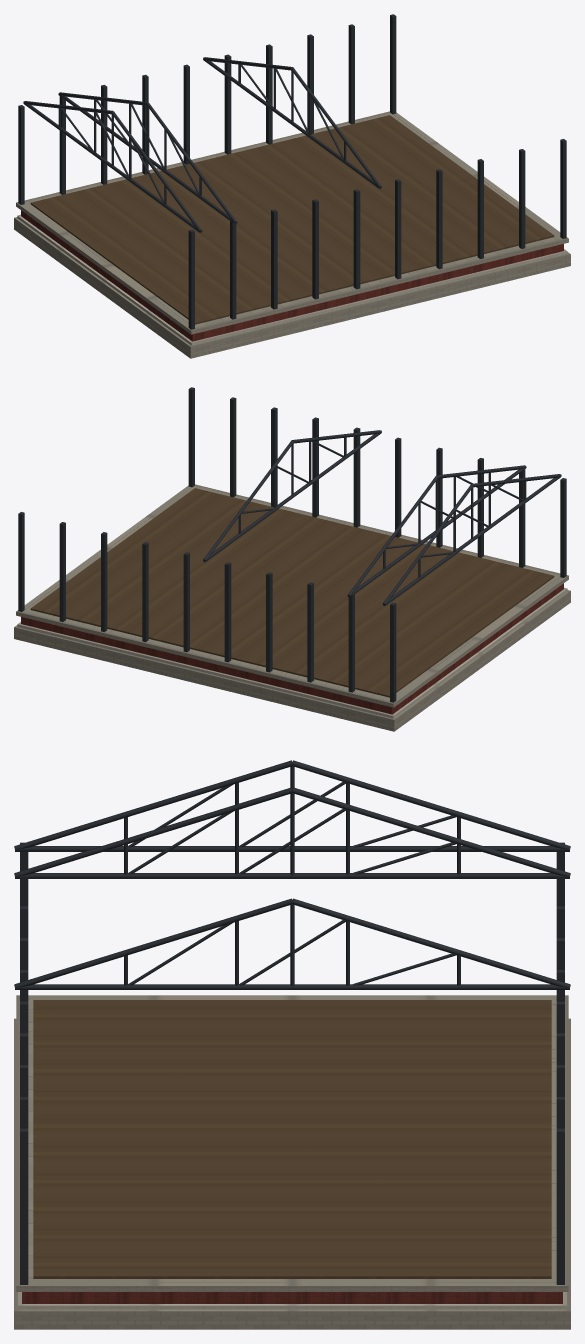
The model's file is fun-7-construction.glb.
3 views of the same model, one above another, from view 1: azimuth 30°, elevation 25°; view 2: azimuth 150°, elevation 25°; view 3: azimuth 270°, elevation 25° (orthographic). The views are drawn at different scales.
Size of the model in its own units: 30.7 by 13.91 by 24.7.
Materials: 5 (4 with a texture image).
